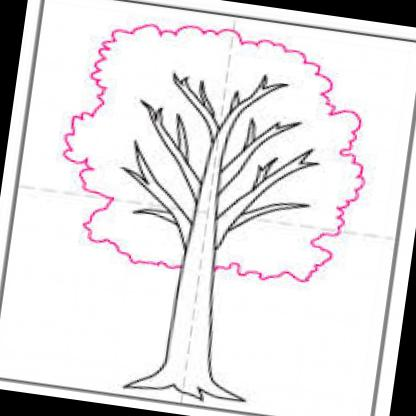branch_sharp: (108, 48, 330, 264)
crown_cloud: (44, 7, 382, 294)
root_only: (122, 364, 250, 408)
trunk_straight: (156, 282, 226, 363)
